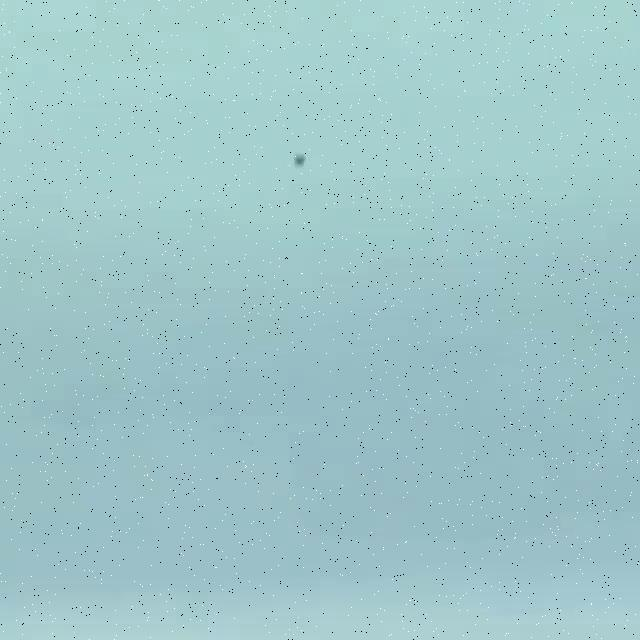golf ball: (294, 155, 305, 165)
